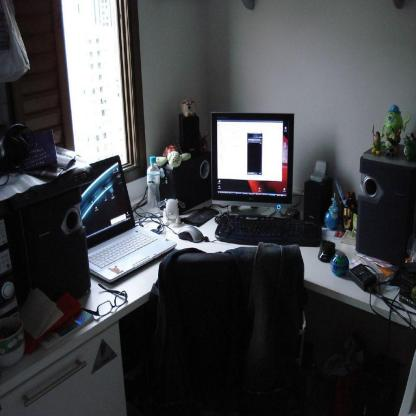board: (80, 154, 177, 283), (147, 157, 161, 214)
